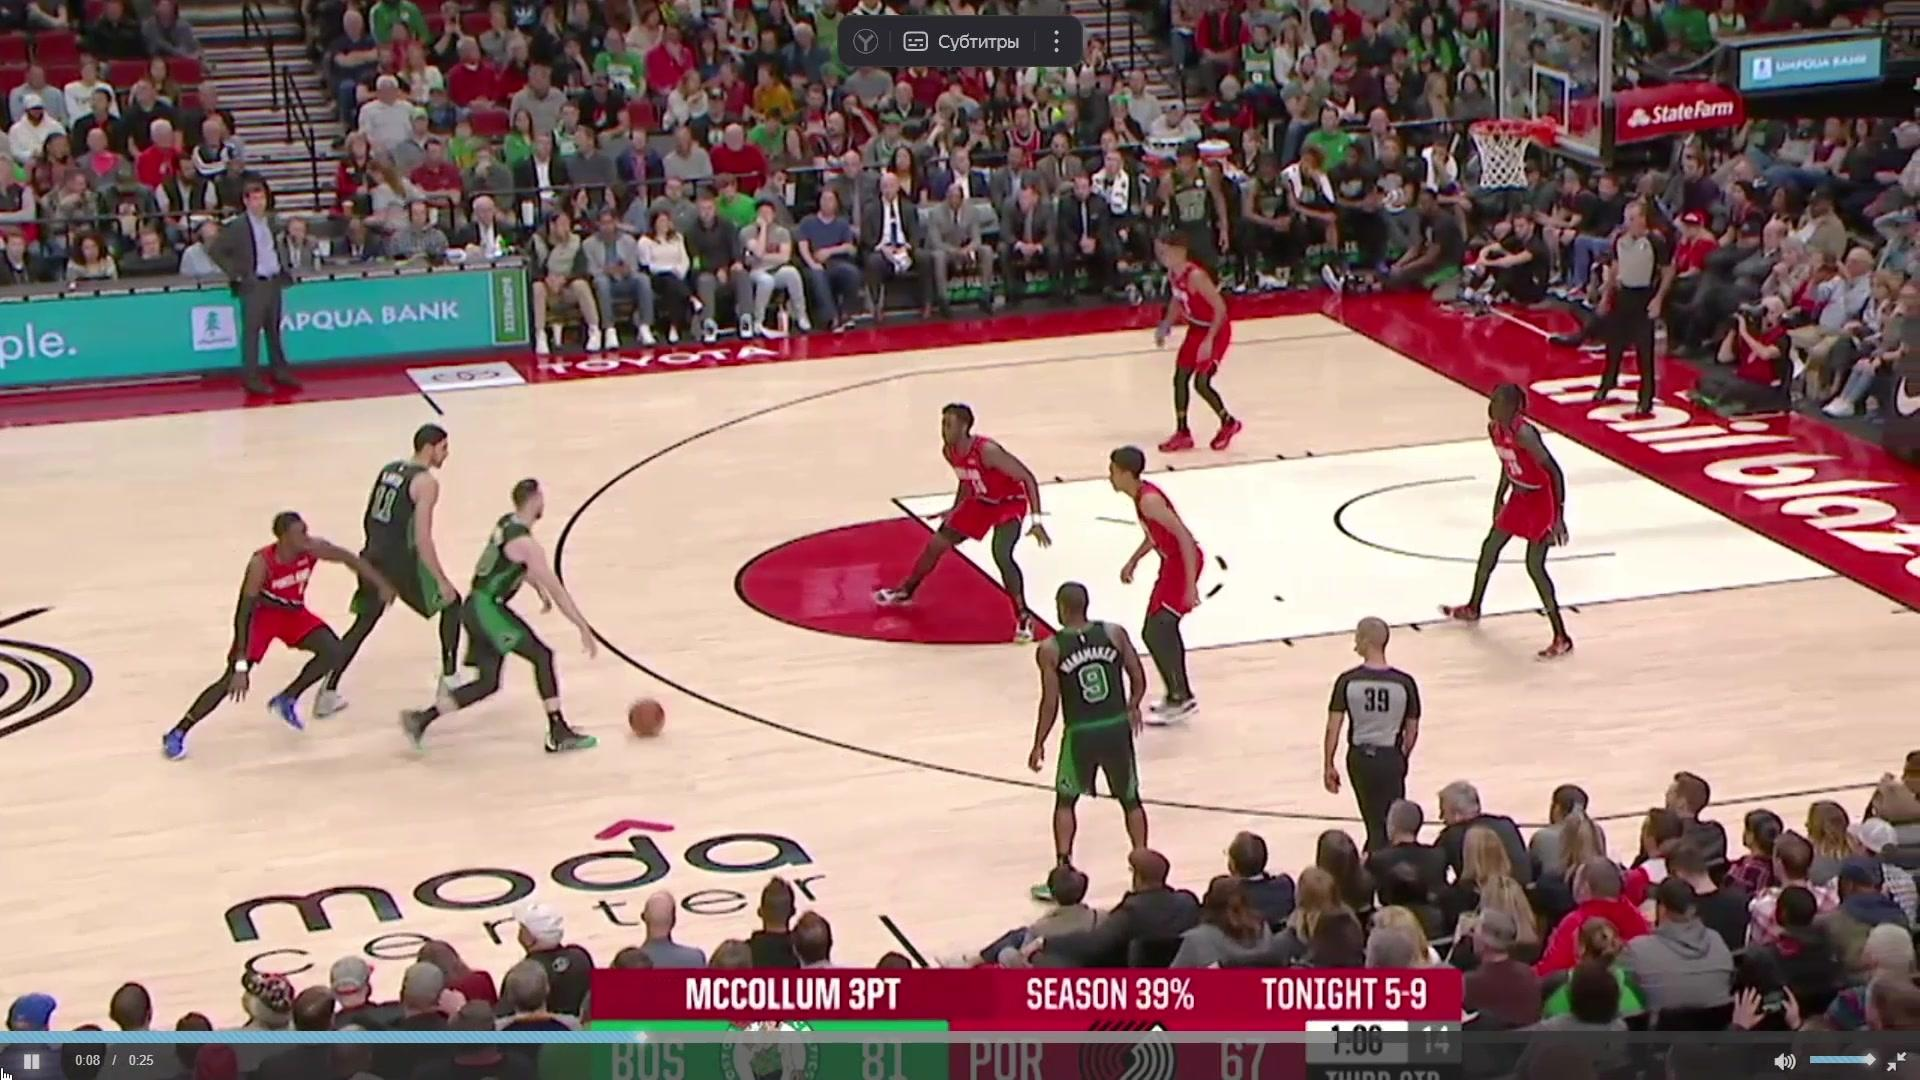no_foul: (219, 426, 471, 748)
